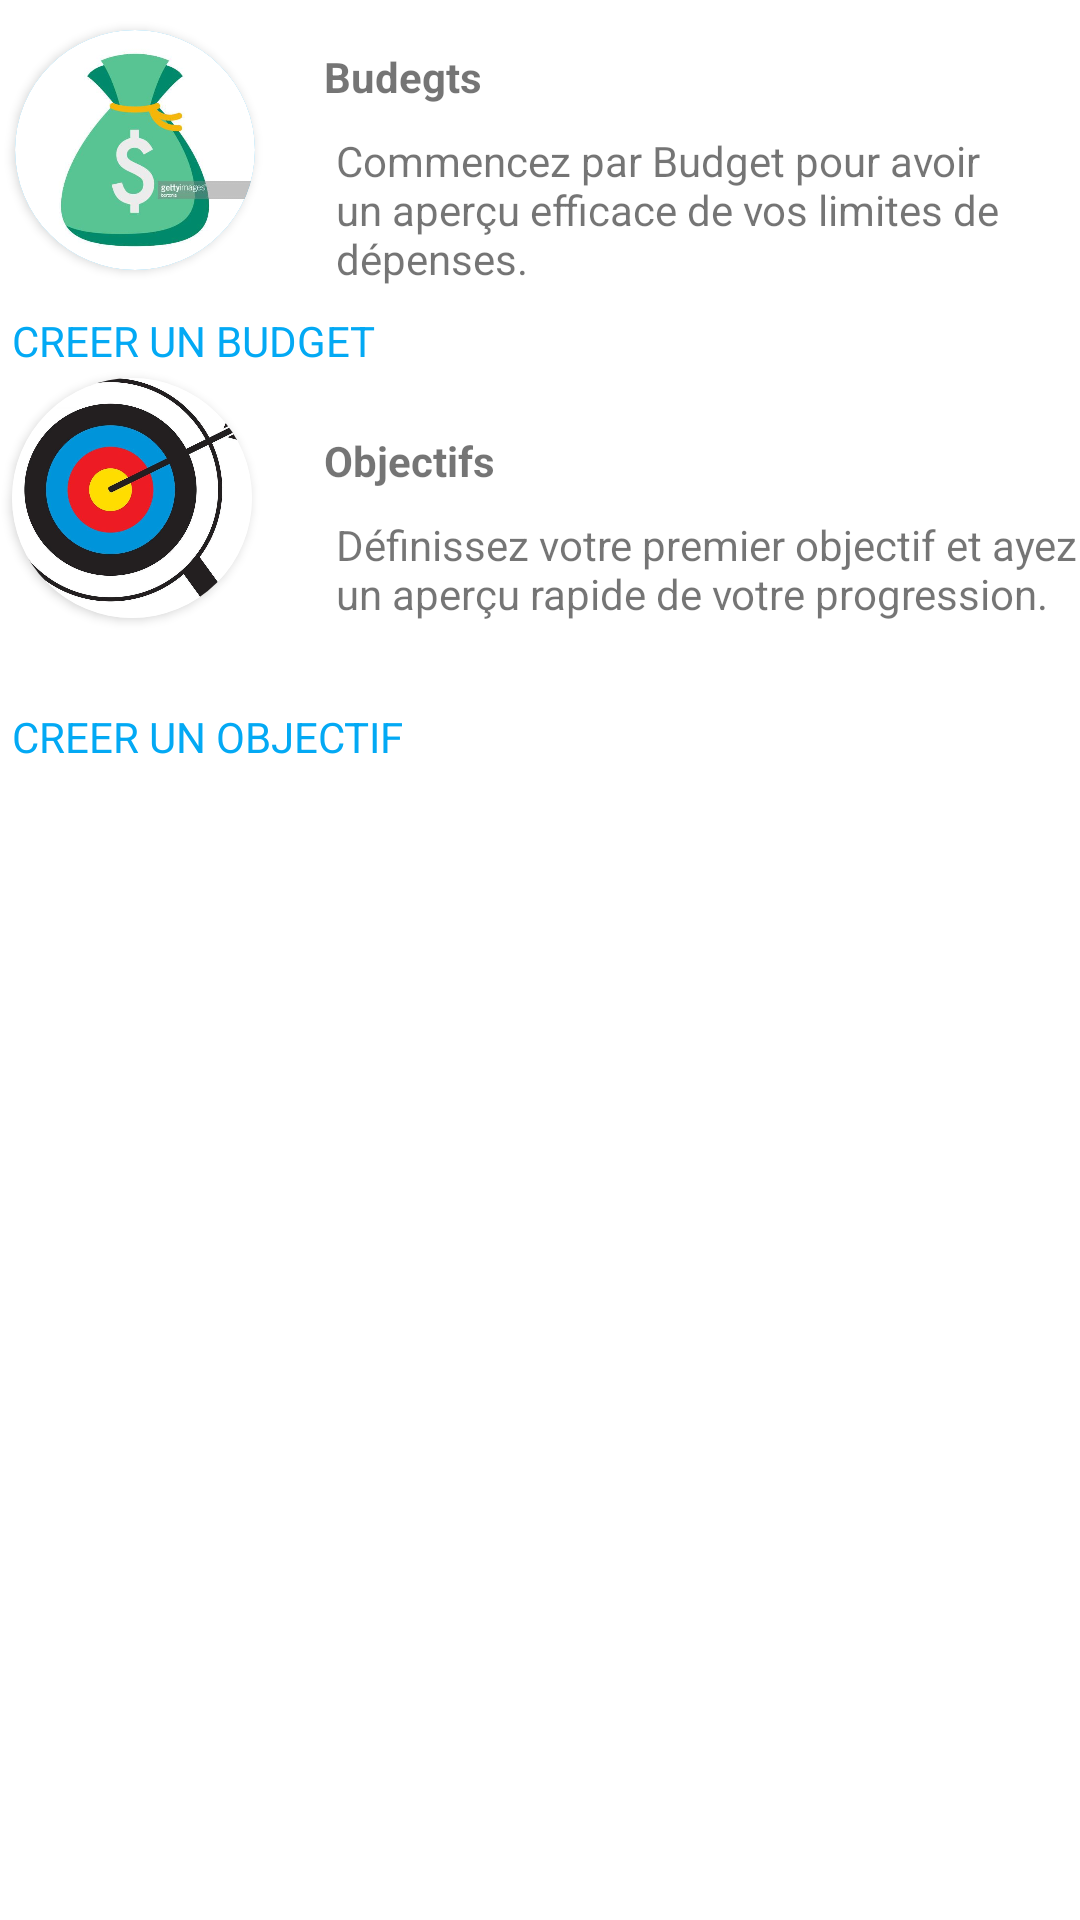

Icon click points for this 1080*1920 phone screenshot, format point (x, y):
cible: point (124, 498)
money: point (135, 150)
